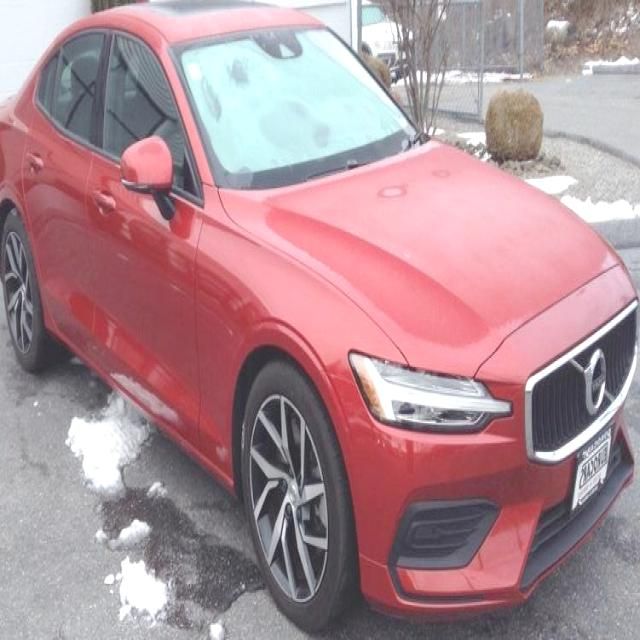red: (0, 9, 631, 614)
